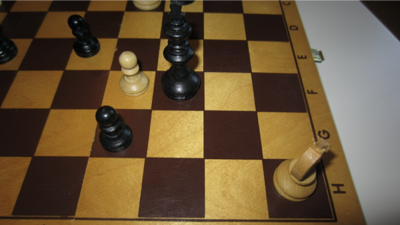black-king: (161, 1, 202, 102)
black-pawn: (95, 105, 134, 153), (67, 14, 102, 58)
white-knight: (273, 137, 333, 203)
white-pawn: (118, 51, 150, 98)
